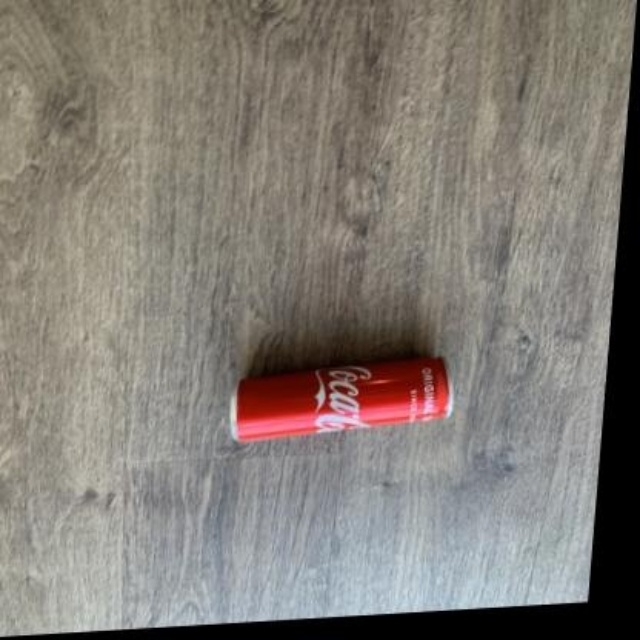trash: (231, 357, 451, 442)
